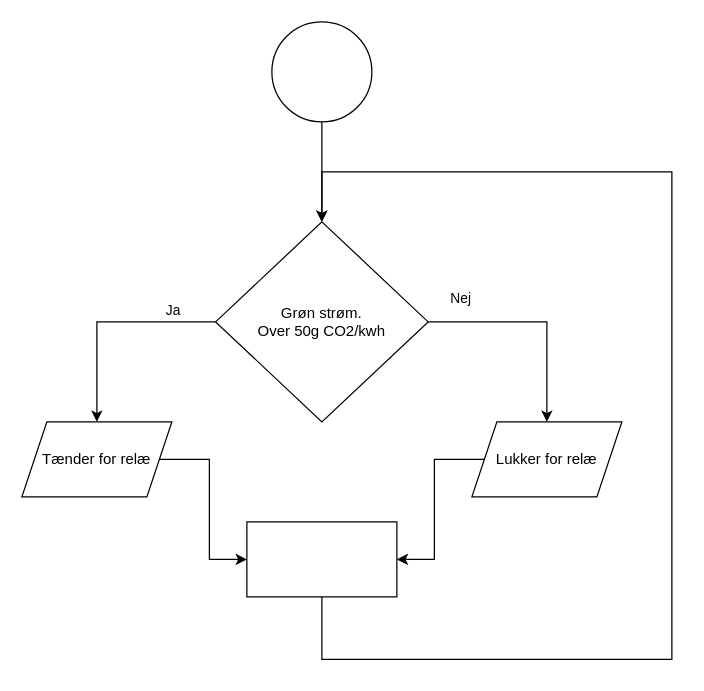
This 704x691 diagram has some shape labels left out. Here are the shapes that lost their labels. From the top down, the box of each, then its label:
(271, 21, 372, 122): ID 8 Start
(246, 521, 397, 597): Vent en sjat tid
